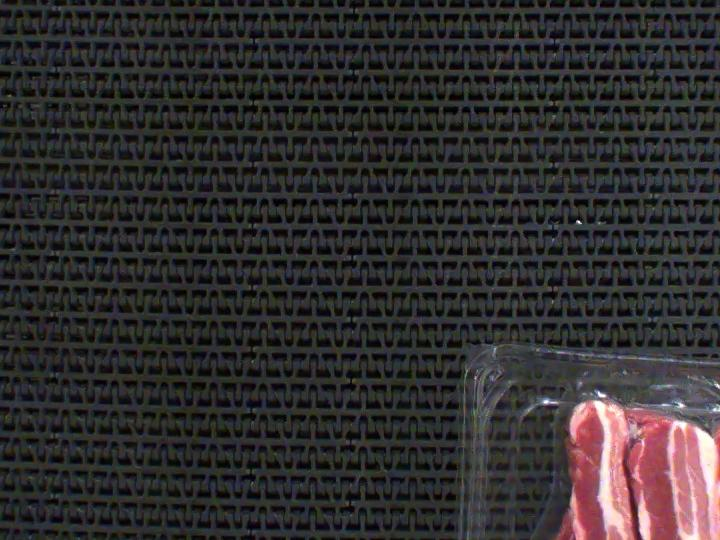unsealed: (523, 372, 720, 540)
